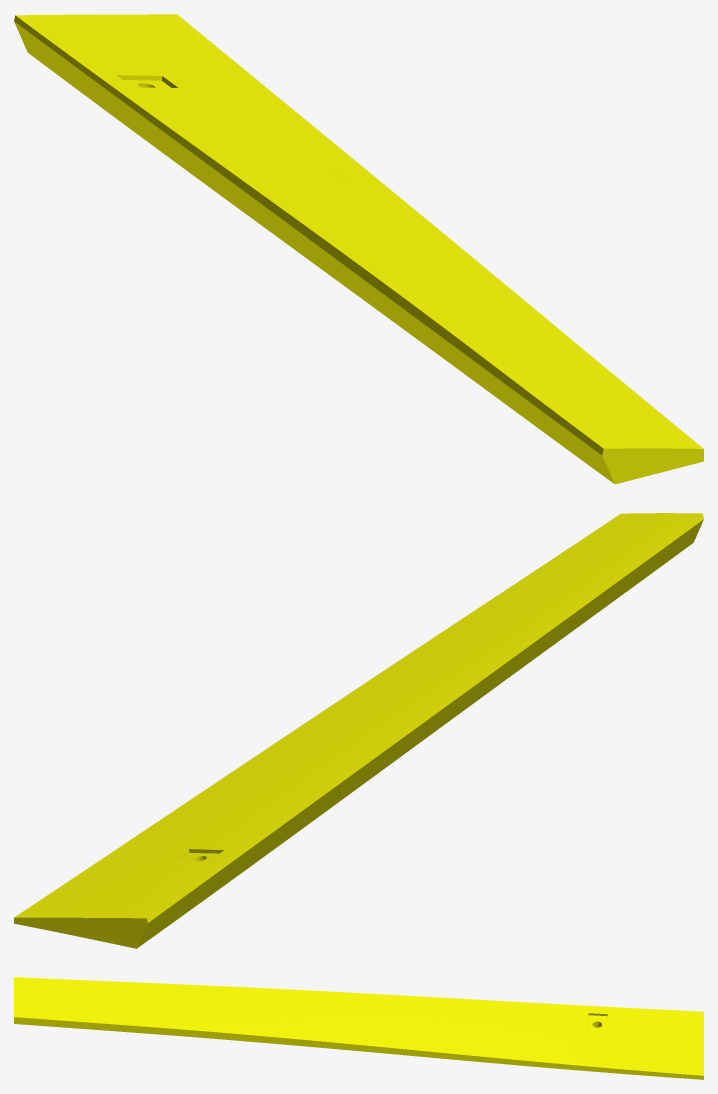
File: believer_aileron_left.dae
The picture shows the model from 3 angles, top to bottom: view 1: azimuth 30°, elevation 25°; view 2: azimuth 150°, elevation 25°; view 3: azimuth 270°, elevation 25°; orthographic projection. The views are drawn at different scales.
Parts seen in each view (by area): view 1: ID2; view 2: ID2; view 3: ID2.
Part boxes in pixels (x1=…): ID2: x1=14, y1=14, x2=703, y2=484; ID2: x1=14, y1=513, x2=703, y2=948; ID2: x1=14, y1=977, x2=703, y2=1079.
Bounding box in the file's own units: 0.0677 × 0.356 × 0.0272.
